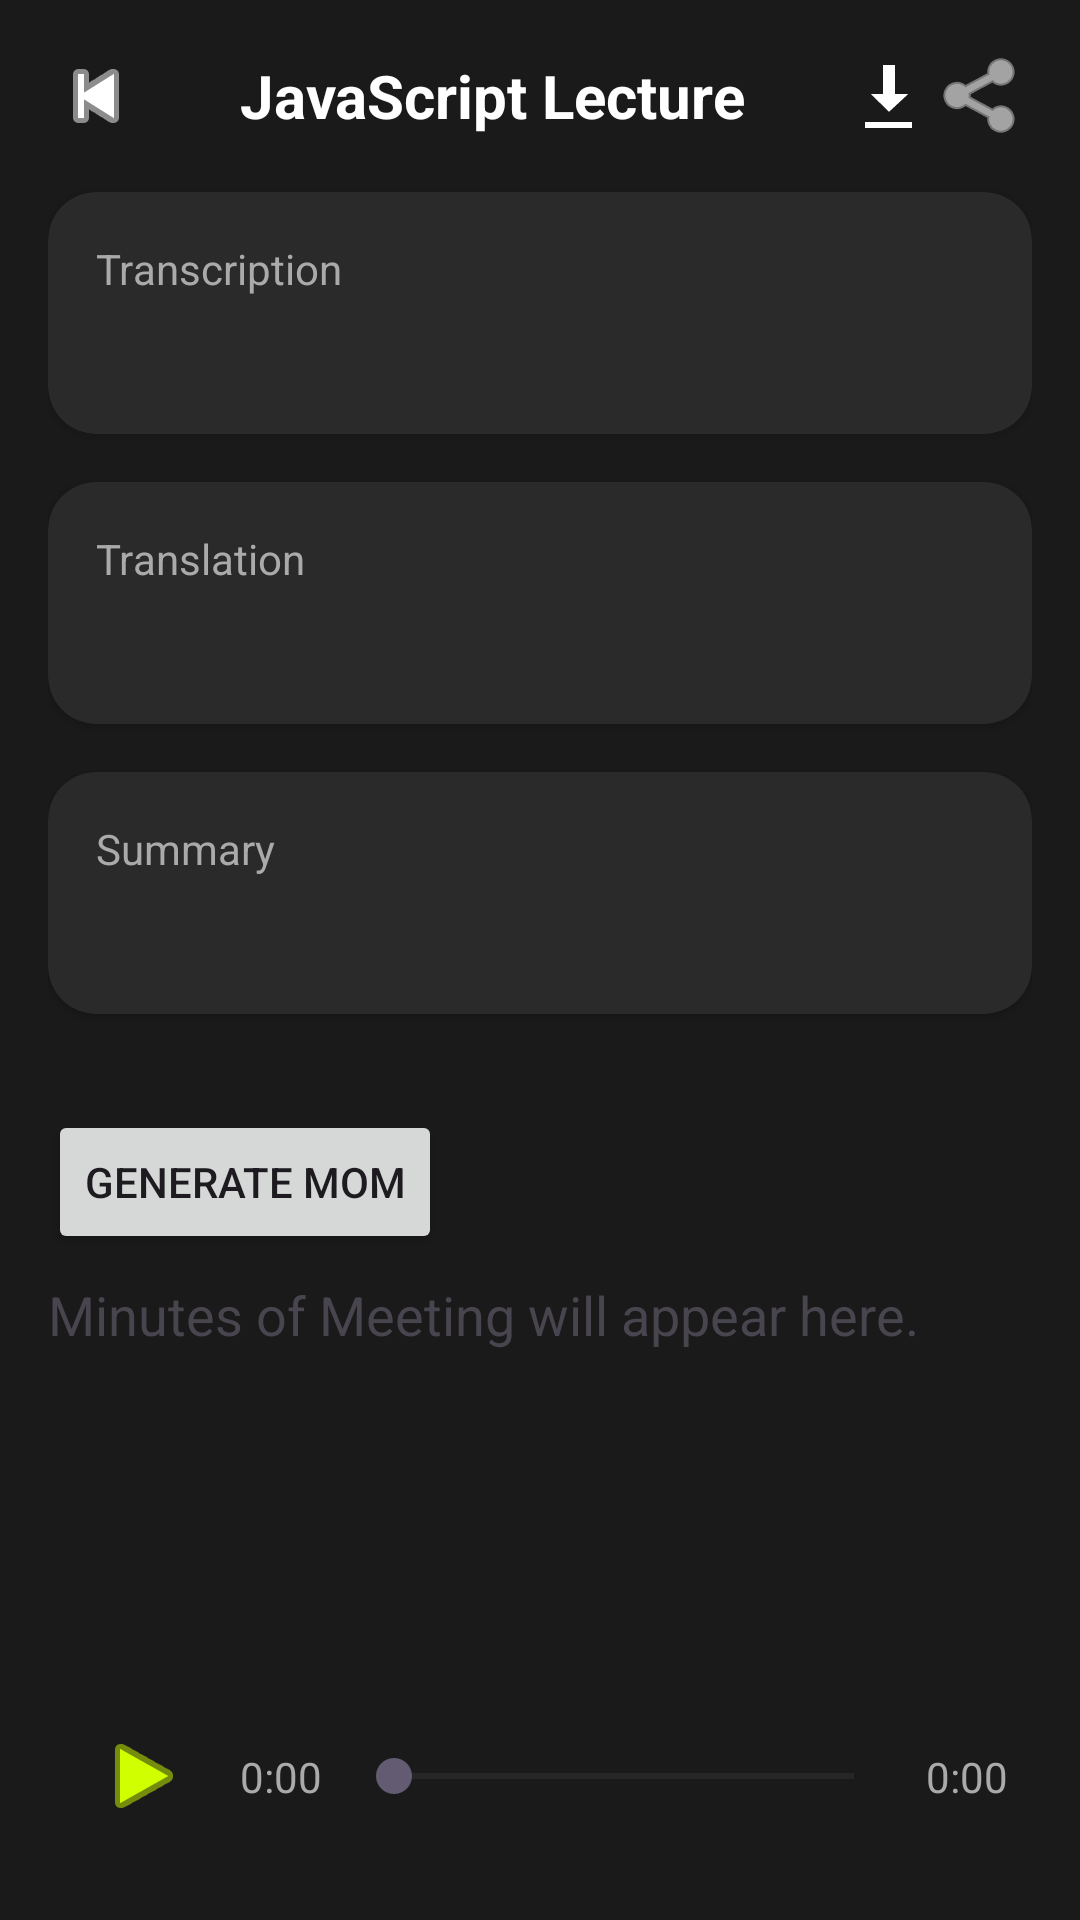

Point at icon controls on the screen. Image size 1080 × 1920, points as point (x, y).
download: point (888, 96)
play: point (144, 1776)
previous: point (96, 96)
share: point (979, 95)
